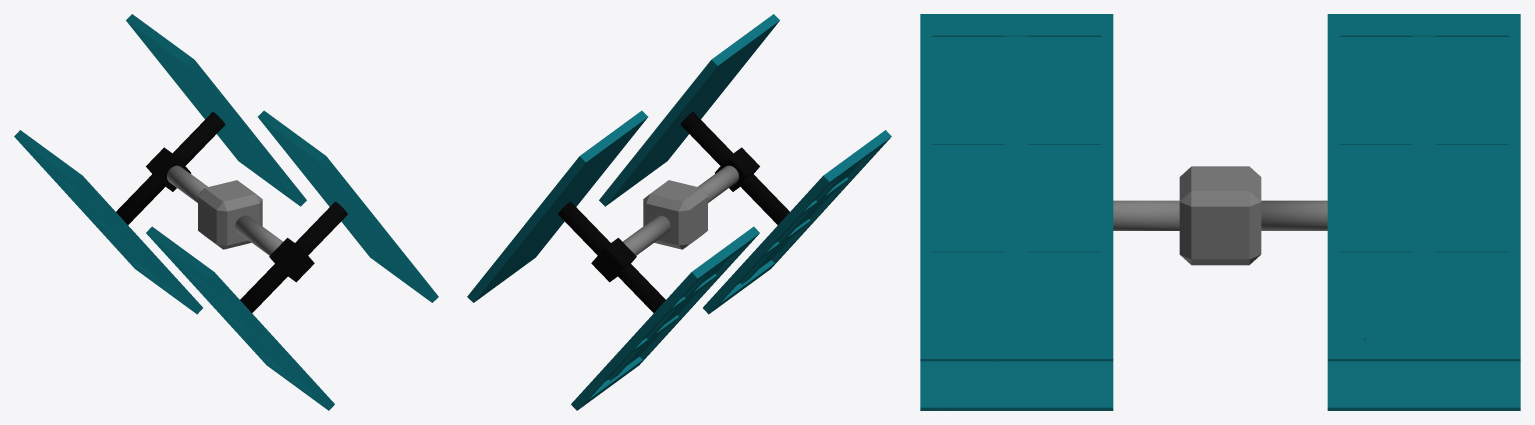
The model's file is satelite.obj.
The picture shows the model from 3 angles, left to right: view 1: azimuth 30°, elevation 25°; view 2: azimuth 150°, elevation 25°; view 3: azimuth 270°, elevation 25°; orthographic projection. The views are drawn at different scales.
Visible parts, largest first — view 1: Cube; view 2: Cube; view 3: Cube.
Part boxes in pixels (<box>): Cube: <box>14,14,438,410</box>; Cube: <box>467,14,891,410</box>; Cube: <box>920,14,1520,410</box>.
Bounding box in the file's own units: 13.6 × 14.39 × 19.82.
